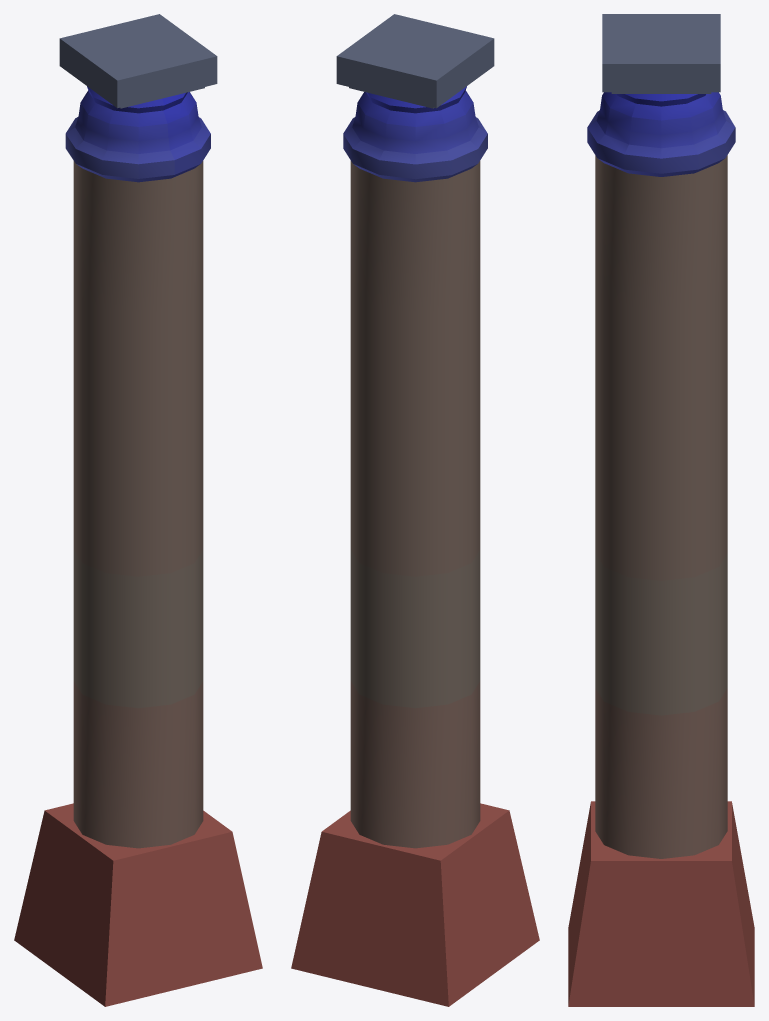
The model's file is ashoka_pillar.dae.
3 renders of one model, left to right at view 1: azimuth 30°, elevation 25°; view 2: azimuth 150°, elevation 25°; view 3: azimuth 270°, elevation 25°, orthographic. The views are drawn at different scales.
Parts seen in each view (by area): view 1: Ashoka_Pillar; view 2: Ashoka_Pillar; view 3: Ashoka_Pillar.
Part boxes in pixels (box(x1,y1,x2,y2)): Ashoka_Pillar: box(14, 14, 262, 1006); Ashoka_Pillar: box(291, 14, 539, 1006); Ashoka_Pillar: box(568, 14, 754, 1006).
Size of the model in its own units: 1.88 by 10.31 by 1.88.
